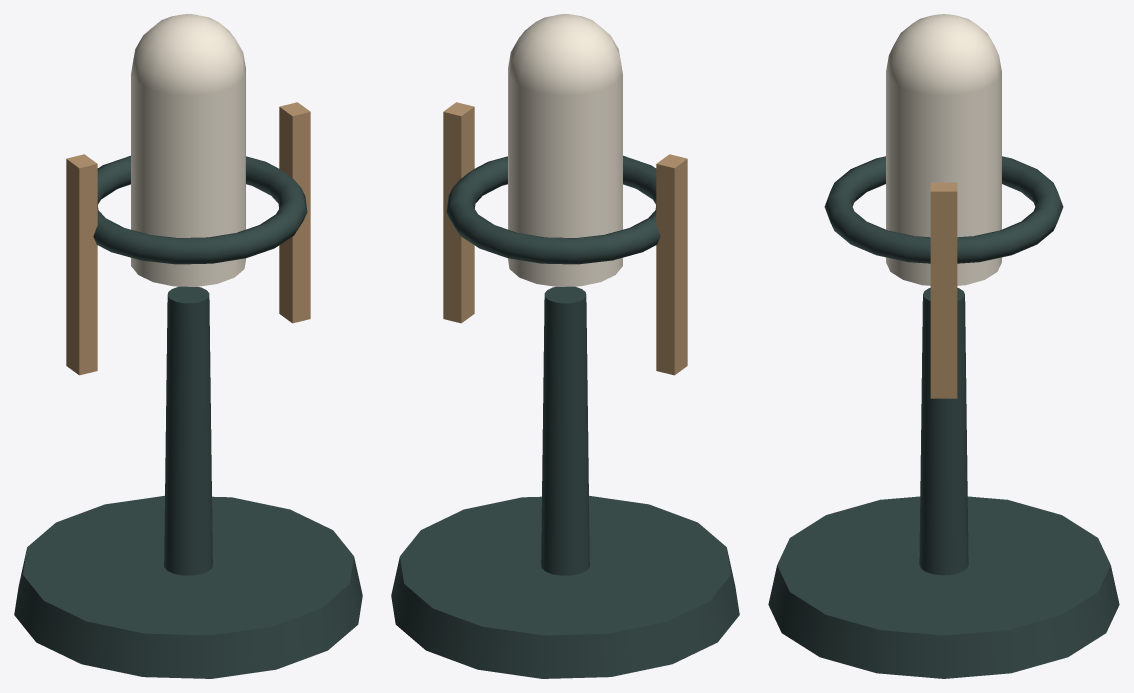
3 renders of one model, left to right at view 1: azimuth 30°, elevation 25°; view 2: azimuth 150°, elevation 25°; view 3: azimuth 270°, elevation 25°, orthographic.
Parts seen in each view (by area): view 1: base, head, stem, shock-ring, cap, fork-0.07, fork0.07; view 2: base, head, stem, shock-ring, cap, fork-0.07, fork0.07; view 3: base, head, stem, shock-ring, cap, fork0.07.
Boxes of the visible parts, x1,y1,x2,y2 form: base: (14, 495, 362, 678); head: (131, 70, 245, 286); stem: (164, 286, 212, 575); shock-ring: (93, 155, 307, 264); cap: (131, 14, 245, 95); fork-0.07: (66, 154, 97, 375); fork0.07: (279, 102, 310, 323); base: (391, 495, 739, 678); head: (508, 70, 622, 286); stem: (541, 286, 589, 575); shock-ring: (446, 155, 660, 264); cap: (508, 14, 622, 95); fork-0.07: (656, 154, 687, 375); fork0.07: (443, 102, 474, 323); base: (768, 496, 1119, 678); head: (886, 72, 1001, 285); stem: (919, 287, 968, 575); shock-ring: (824, 156, 1063, 263); cap: (886, 14, 1001, 95); fork0.07: (930, 182, 957, 398).
Bounding box in the file's own units: 0.2 × 0.368 × 0.2.
